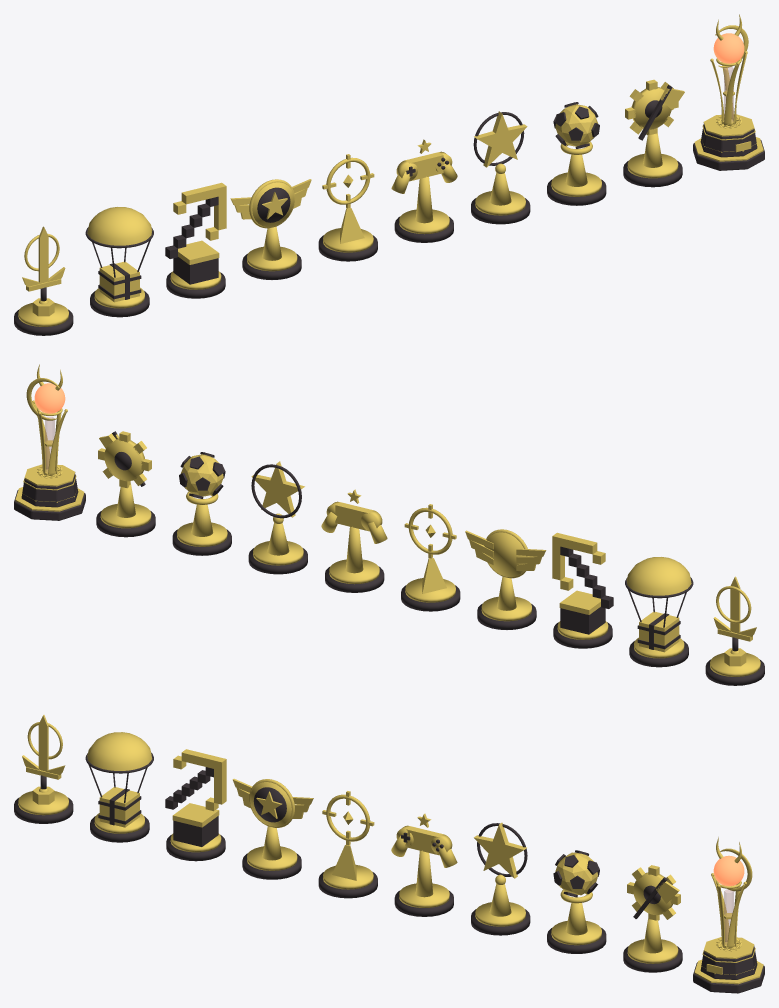
File: trophies.glb
3 views of the same model, one above another, from view 1: azimuth 30°, elevation 25°; view 2: azimuth 150°, elevation 25°; view 3: azimuth 330°, elevation 25° (orthographic).
Visible parts, largest first — view 1: trophy_grand, trophy_pubg, trophy_minecraft, trophy_overwatch, trophy_rust, trophy_fifa, trophy_multi, trophy_etc, trophy_lol, trophy_valorant; view 2: trophy_grand, trophy_pubg, trophy_minecraft, trophy_overwatch, trophy_rust, trophy_fifa, trophy_multi, trophy_etc, trophy_lol, trophy_valorant; view 3: trophy_grand, trophy_pubg, trophy_minecraft, trophy_overwatch, trophy_rust, trophy_fifa, trophy_multi, trophy_etc, trophy_lol, trophy_valorant.
Boxes of the visible parts, x1,y1,x2,y2 form: trophy_grand: (693, 14, 764, 170); trophy_pubg: (85, 207, 153, 317); trophy_minecraft: (165, 182, 226, 298); trophy_overwatch: (230, 179, 311, 279); trophy_rust: (623, 79, 684, 187); trophy_fifa: (547, 102, 606, 205); trophy_multi: (391, 139, 457, 242); trophy_etc: (471, 111, 530, 224); trophy_lol: (14, 226, 73, 335); trophy_valorant: (318, 154, 377, 261); trophy_grand: (14, 364, 85, 520); trophy_pubg: (625, 557, 693, 667); trophy_minecraft: (552, 532, 613, 648); trophy_overwatch: (465, 529, 546, 629); trophy_rust: (96, 431, 155, 537); trophy_fifa: (172, 452, 231, 555); trophy_multi: (321, 489, 387, 592); trophy_etc: (248, 461, 307, 574); trophy_lol: (705, 576, 764, 685); trophy_valorant: (401, 504, 460, 611); trophy_grand: (693, 837, 764, 993); trophy_pubg: (85, 732, 153, 842); trophy_minecraft: (165, 749, 226, 861); trophy_overwatch: (232, 778, 313, 879); trophy_rust: (623, 865, 682, 972); trophy_fifa: (547, 850, 606, 953); trophy_multi: (391, 813, 457, 916); trophy_etc: (471, 822, 530, 935); trophy_lol: (14, 715, 73, 823); trophy_valorant: (318, 791, 377, 898).
Size of the model in its own units: 7.81 by 1.4 by 0.674.
